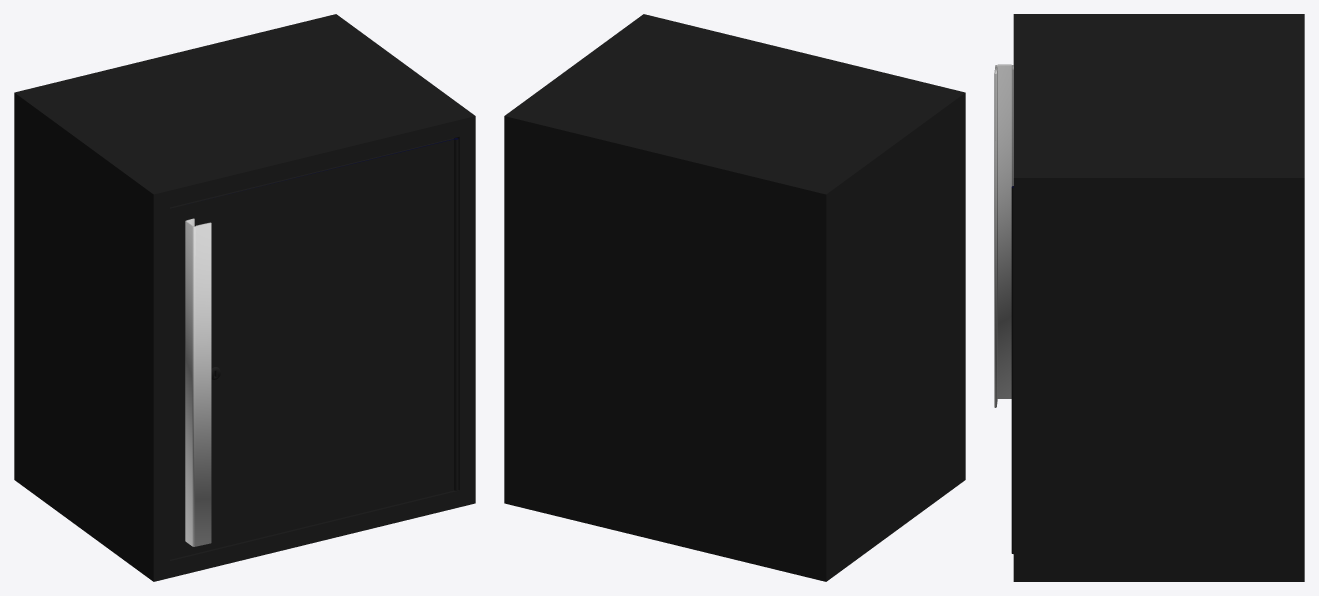
File: leftWallMount20.glb
The picture shows the model from 3 angles, left to right: view 1: azimuth 30°, elevation 25°; view 2: azimuth 150°, elevation 25°; view 3: azimuth 270°, elevation 25°; orthographic projection. The views are drawn at different scales.
Parts seen in each view (by area): view 1: shellFp, doors, handlesFp, hingeFp; view 2: shellFp; view 3: shellFp, handlesFp, hingeFp.
Boxes of the visible parts, left/top/right/bottom form: shellFp: left=14, top=14, right=475, bottom=581; doors: left=167, top=138, right=458, bottom=559; handlesFp: left=185, top=218, right=211, bottom=546; hingeFp: left=454, top=139, right=458, bottom=490; shellFp: left=504, top=14, right=965, bottom=581; shellFp: left=1013, top=14, right=1304, bottom=581; handlesFp: left=994, top=64, right=1013, bottom=407; hingeFp: left=1011, top=187, right=1013, bottom=553.
Bounding box in the file's own units: 0.508 × 0.5842 × 0.4064.
Materials: 4 (1 with a texture image).
